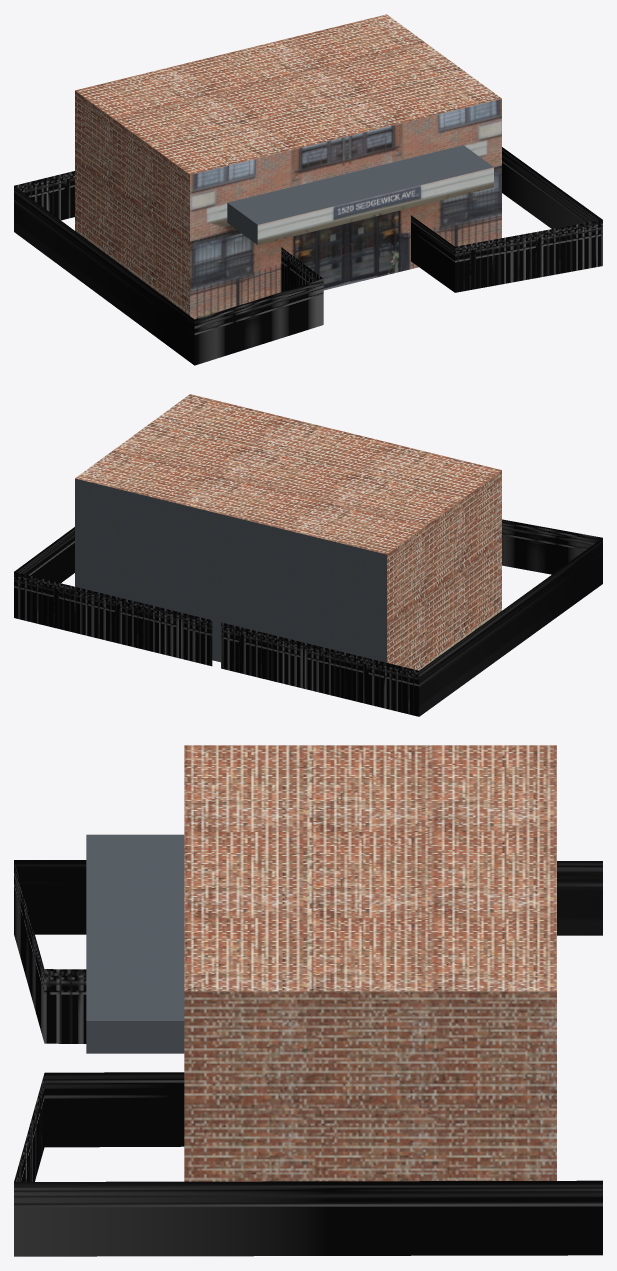
File: sedgewick 1.fbx
3 renders of one model, top to bottom at view 1: azimuth 30°, elevation 25°; view 2: azimuth 150°, elevation 25°; view 3: azimuth 270°, elevation 25°, orthographic. The views are drawn at different scales.
Parts seen in each view (by area): view 1: Sedgewick; view 2: Sedgewick; view 3: Sedgewick.
Boxes of the visible parts, <box> form: Sedgewick: <box>14,14,602,365</box>; Sedgewick: <box>14,394,602,716</box>; Sedgewick: <box>14,745,602,1256</box>.
Bounding box in the file's own units: 409 × 142 × 316.
1 material, 1 textured.
